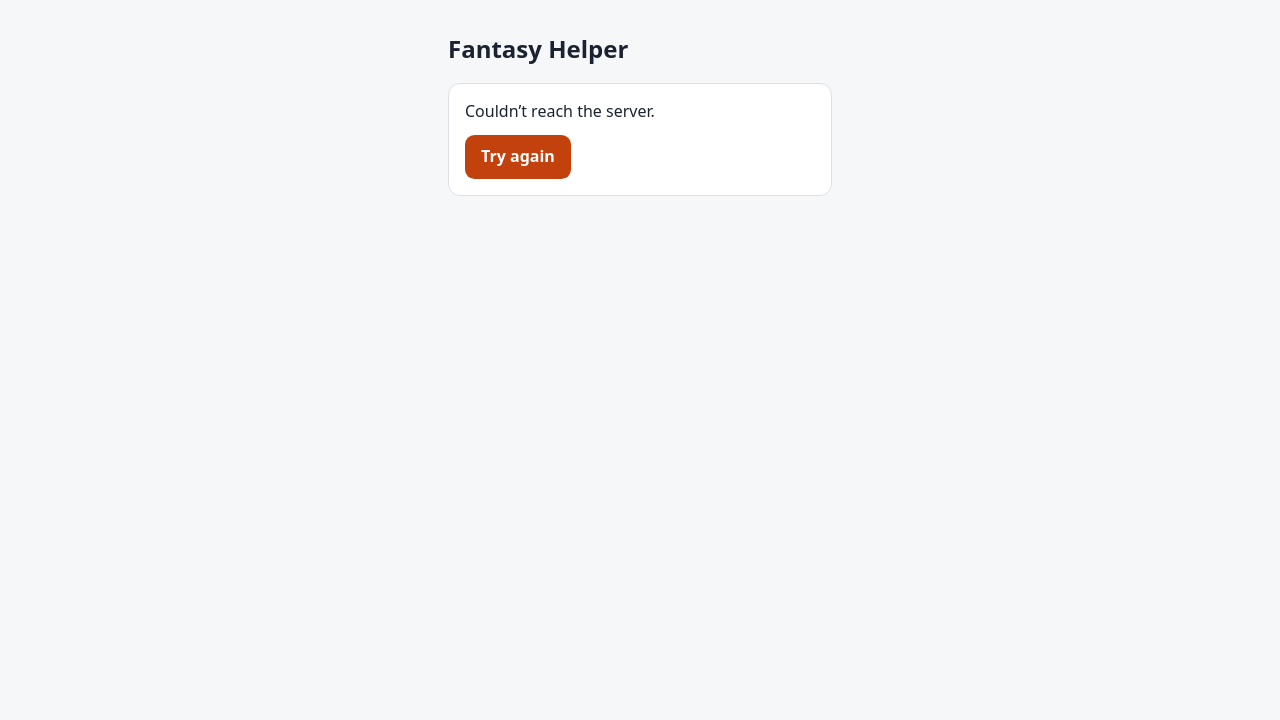
Test case: when something is wrong › offers a retry when the API cannot be reached at first
This screenshot has width=1280, height=720.
Expected: the message shows "Couldn’t reach the server.", 465,100 -> 655,122
Click the button "Try again".
click(518, 157)  # box 465,135 -> 571,179
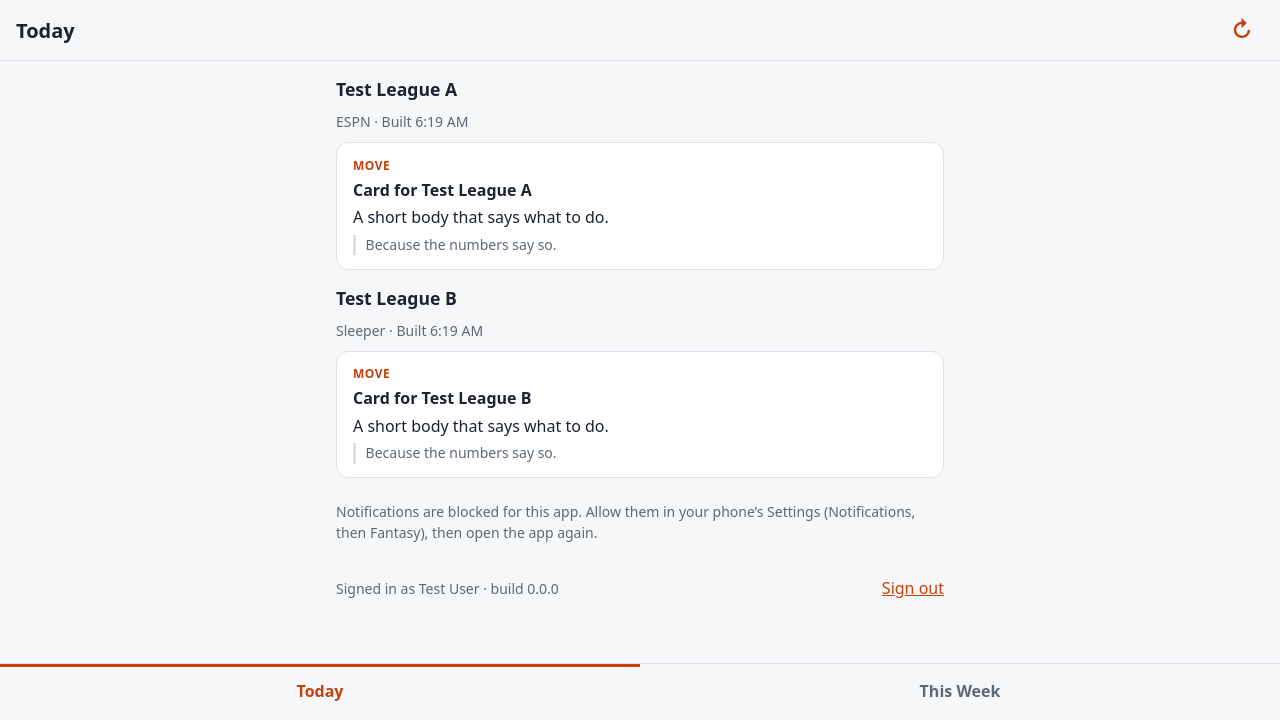
Now the element "Test League A" is shown, box 336,77 -> 944,270
